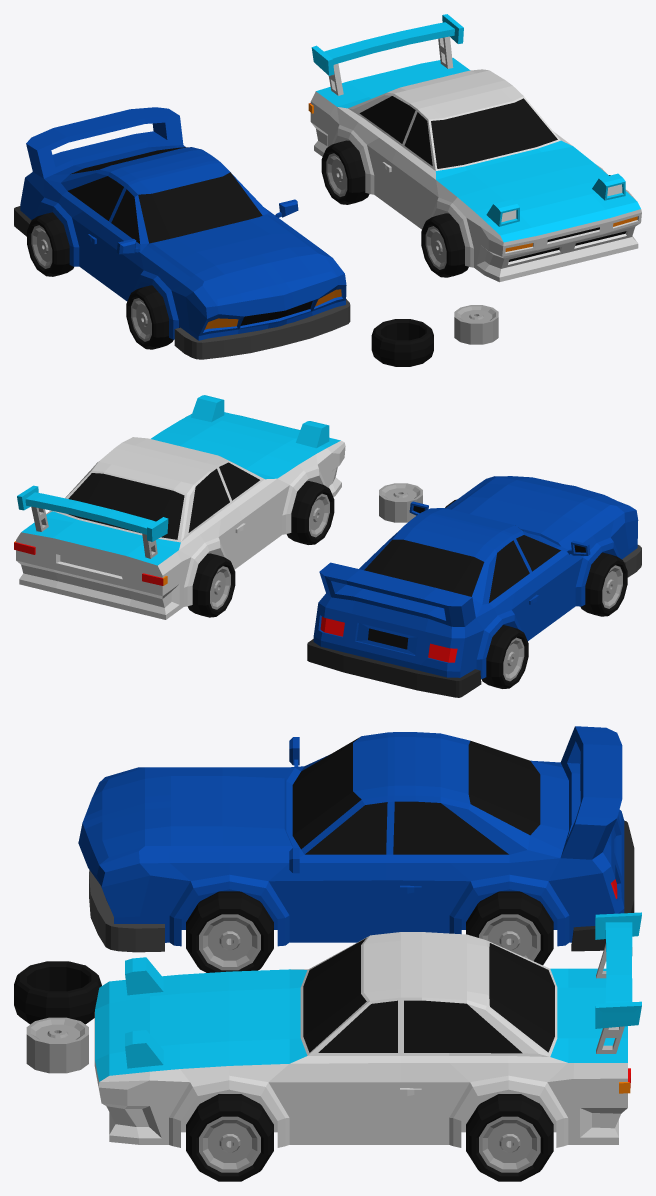
3 views of the same model, one above another, from view 1: azimuth 30°, elevation 25°; view 2: azimuth 150°, elevation 25°; view 3: azimuth 270°, elevation 25° (orthographic). The views are drawn at different scales.
Visible parts, largest first — view 1: Chasis02, Chasis01, Aileron01, BumpFront01, Aileron02, TireMesh01, TireMesh01.012, TireMesh01.010, Cilindro.001, TireMesh01.004, TireMesh01.002, Cilindro.035 (+5 smaller); view 2: Chasis02, Chasis01, Aileron01, BumpBack01, Aileron02, TireMesh01.010, TireMesh01.012, TireMesh01.002, TireMesh01.004, Cilindro.001, LightRight.002, LightLeft.002 (+4 smaller); view 3: Chasis02, Chasis01, Aileron01, Aileron02, TireMesh01, TireMesh01.011, TireMesh01.009, TireMesh01.001, Cilindro.001, Cilindro.038, Cilindro.032, Cilindro.036 (+6 smaller).
Part boxes in pixels (<box>): Chasis02: <box>308,58,641,282</box>; Chasis01: <box>20,145,346,340</box>; Aileron01: <box>26,107,183,178</box>; BumpFront01: <box>174,299,350,359</box>; Aileron02: <box>311,14,463,95</box>; TireMesh01: <box>371,319,433,366</box>; TireMesh01.012: <box>321,140,369,204</box>; TireMesh01.010: <box>421,213,468,277</box>; Cilindro.001: <box>454,305,498,344</box>; TireMesh01.004: <box>27,212,73,276</box>; TireMesh01.002: <box>126,285,173,349</box>; Cilindro.035: <box>31,225,52,268</box>; Chasis02: <box>14,412,345,619</box>; Chasis01: <box>313,476,638,678</box>; Aileron01: <box>319,562,475,626</box>; BumpBack01: <box>307,639,481,697</box>; Aileron02: <box>17,485,168,558</box>; TireMesh01.010: <box>286,481,334,544</box>; TireMesh01.012: <box>187,553,235,617</box>; TireMesh01.002: <box>580,552,627,616</box>; TireMesh01.004: <box>481,625,528,688</box>; Cilindro.001: <box>379,483,422,522</box>; LightRight.002: <box>296,421,329,448</box>; LightLeft.002: <box>191,395,224,422</box>; Chasis02: <box>94,932,630,1147</box>; Chasis01: <box>78,732,624,946</box>; Aileron01: <box>560,726,622,859</box>; Aileron02: <box>595,912,641,1053</box>; TireMesh01: <box>14,961,101,1024</box>; TireMesh01.011: <box>466,1094,553,1181</box>; TireMesh01.009: <box>186,1094,273,1181</box>; TireMesh01.001: <box>186,891,273,972</box>; Cilindro.001: <box>26,1017,88,1073</box>; Cilindro.038: <box>479,1116,540,1172</box>; Cilindro.032: <box>199,914,260,970</box>; Cilindro.036: <box>199,1116,260,1172</box>.
Bounding box in the file's own units: 12.95 × 3.33 × 10.49.
